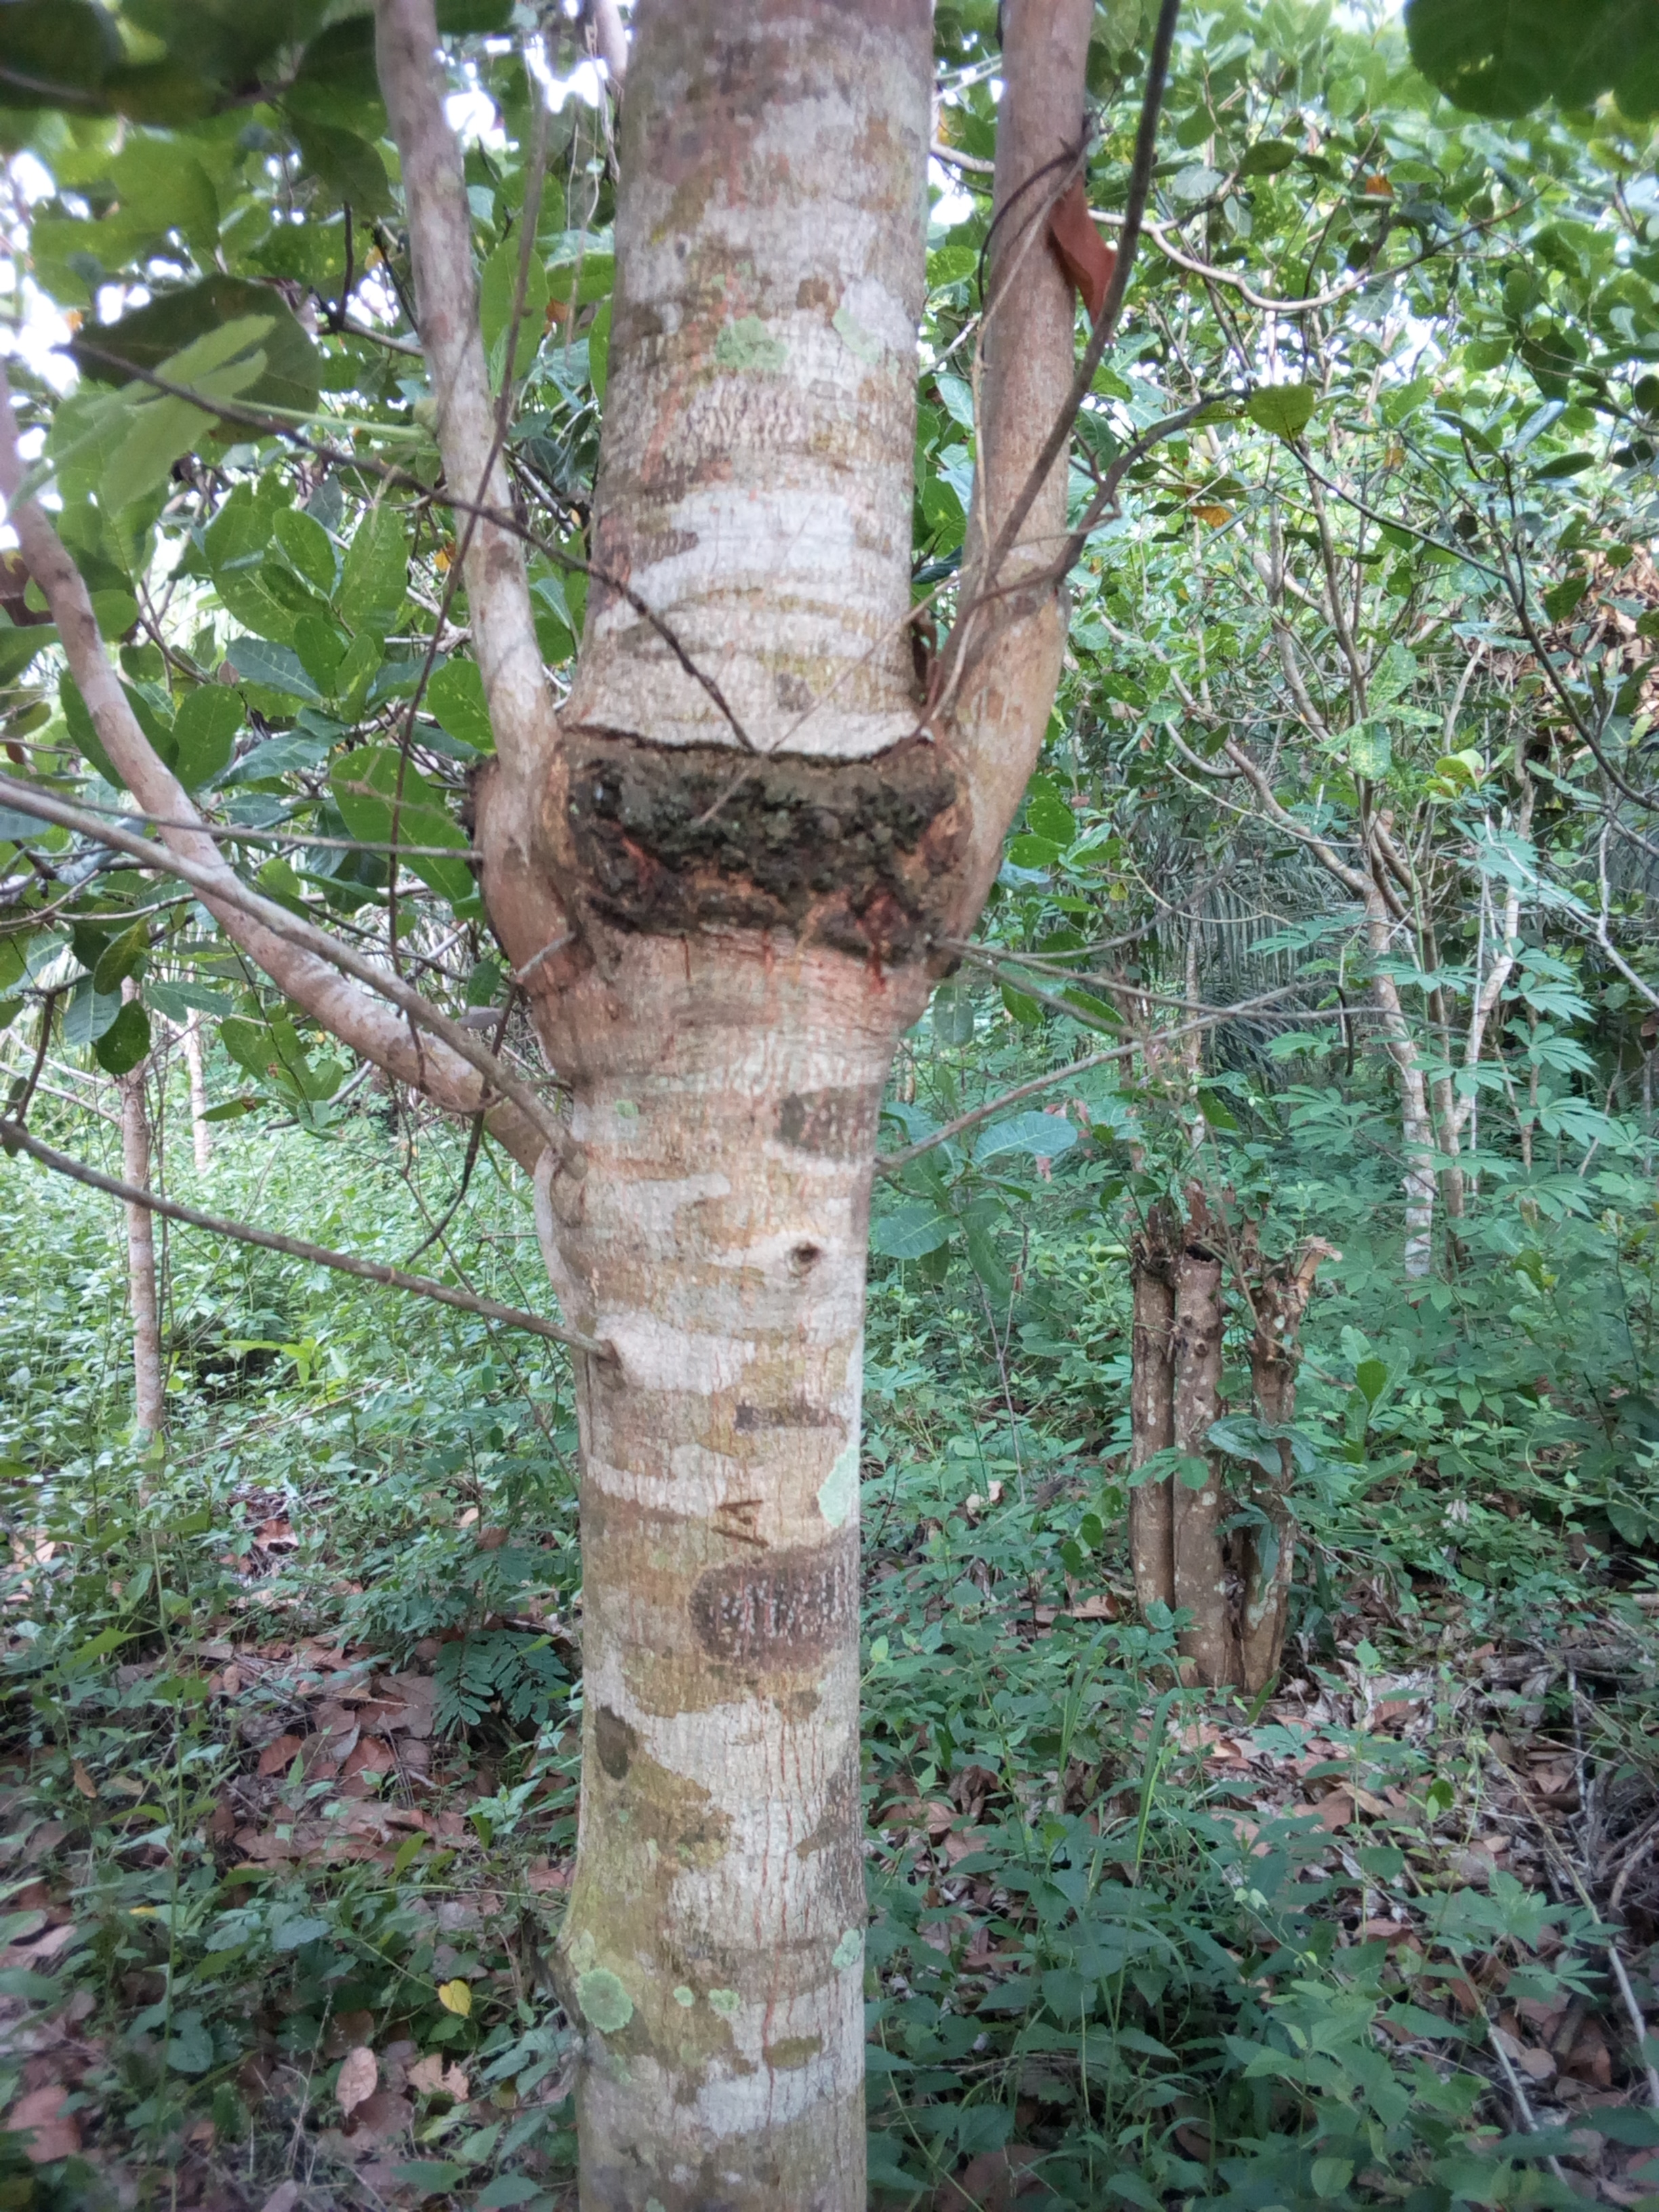ploceadorus ferrugineus: (507, 669, 1019, 1031)
